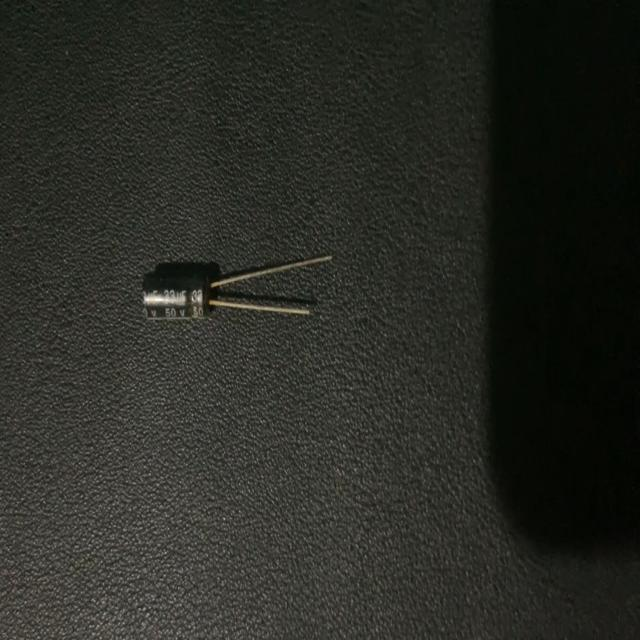capacitor: (144, 254, 333, 325)
